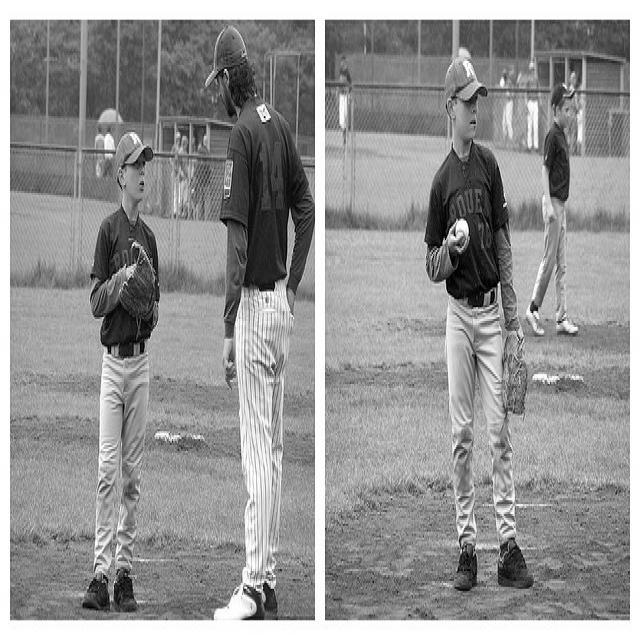monkey: (205, 22, 318, 624), (424, 56, 534, 592), (81, 128, 161, 605), (527, 83, 578, 342), (196, 135, 214, 226), (336, 51, 352, 146), (168, 129, 181, 220), (176, 136, 189, 218), (93, 121, 105, 179), (103, 123, 115, 177)
